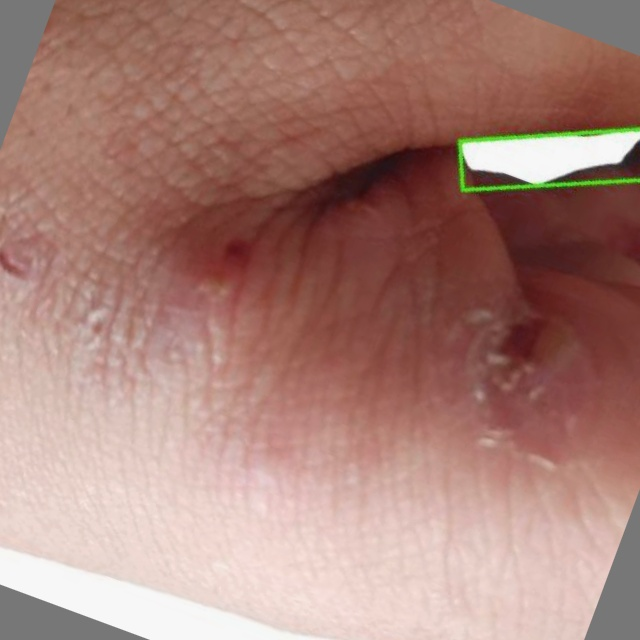Scabies: (459, 128, 639, 189)
